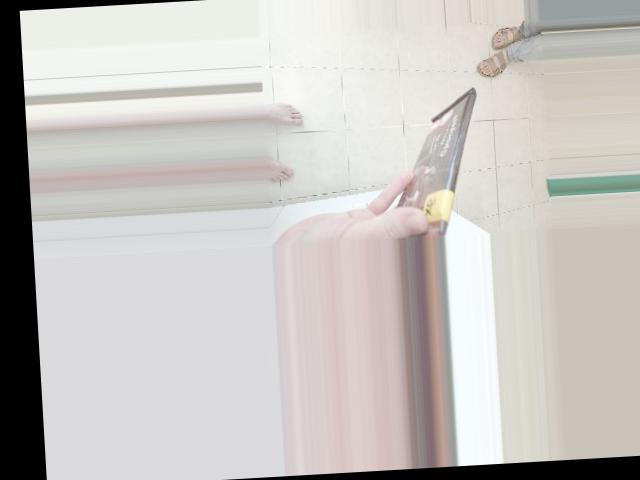chocolate: (332, 62, 485, 177)
